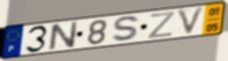3: (23, 24, 51, 54)
8: (87, 18, 109, 46)
N: (48, 20, 80, 53)
S: (111, 15, 142, 43)
V: (175, 5, 207, 38)
Z: (146, 10, 176, 40)
